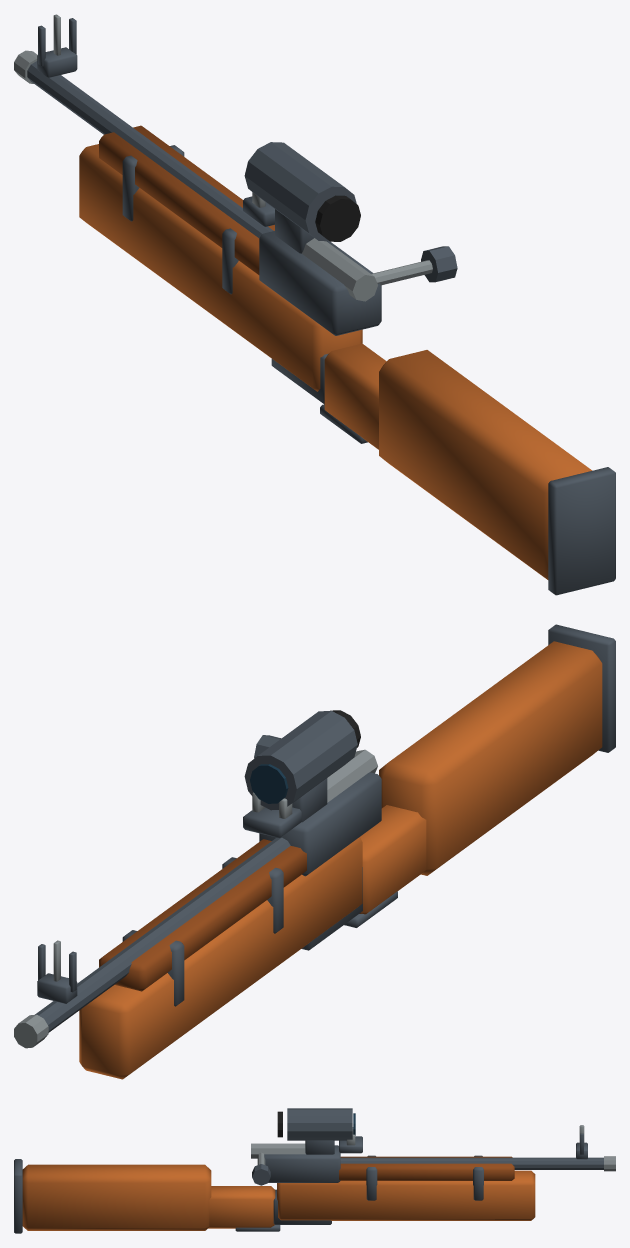
The model's file is mosin.glb.
3 renders of one model, top to bottom at view 1: azimuth 30°, elevation 25°; view 2: azimuth 150°, elevation 25°; view 3: azimuth 270°, elevation 25°, orthographic. The views are drawn at different scales.
Visible parts, largest first — view 1: Buttstock, Forestock, Buttplate, Upper handguard, Receiver, ACOG housing, Long barrel, Wrist, Bolt body, ACOG eyepiece, Bolt knob, Barrel band.001 (+4 smaller); view 2: Buttstock, Forestock, Upper handguard, ACOG housing, Long barrel, Wrist, Receiver, Buttplate, Bolt body, Rear sight base, ACOG front glass, Muzzle crown (+4 smaller); view 3: Buttstock, Forestock, Upper handguard, Wrist, Long barrel, ACOG housing, Receiver, Bolt body, Buttplate, Optic mount, Magazine floor, Barrel band (+4 smaller).
Boxes of the visible parts, x1,y1,x2,y2 form: Buttstock: (379, 350, 591, 579); Forestock: (79, 144, 362, 391); Buttplate: (548, 467, 615, 595); Upper handguard: (99, 125, 274, 274); Receiver: (259, 231, 381, 335); ACOG housing: (244, 142, 356, 241); Long barrel: (27, 61, 273, 238); Wrist: (324, 343, 386, 449); Bolt body: (302, 238, 377, 301); ACOG eyepiece: (315, 195, 360, 241); Bolt knob: (421, 246, 457, 282); Barrel band.001: (122, 145, 184, 221); Buttstock: (379, 641, 602, 875); Forestock: (79, 837, 362, 1079); Upper handguard: (99, 839, 306, 991); ACOG housing: (244, 711, 357, 810); Long barrel: (35, 837, 290, 1032); Wrist: (359, 805, 426, 914); Receiver: (259, 772, 381, 876); Buttplate: (548, 624, 615, 752); Bolt body: (327, 749, 377, 802); Rear sight base: (243, 807, 301, 838); ACOG front glass: (250, 764, 288, 803); Muzzle crown: (14, 1014, 48, 1048); Buttstock: (22, 1164, 211, 1230); Forestock: (277, 1170, 535, 1220); Upper handguard: (339, 1156, 514, 1180); Wrist: (208, 1186, 275, 1228); Long barrel: (340, 1157, 603, 1169); ACOG housing: (287, 1108, 352, 1140); Receiver: (264, 1145, 340, 1182); Bolt body: (251, 1143, 305, 1158); Buttplate: (14, 1159, 22, 1233); Optic mount: (305, 1140, 334, 1154); Magazine floor: (273, 1189, 331, 1224); Barrel band: (366, 1155, 377, 1200).
Bounding box in the file's own units: 0.2235 × 0.377 × 1.75.
